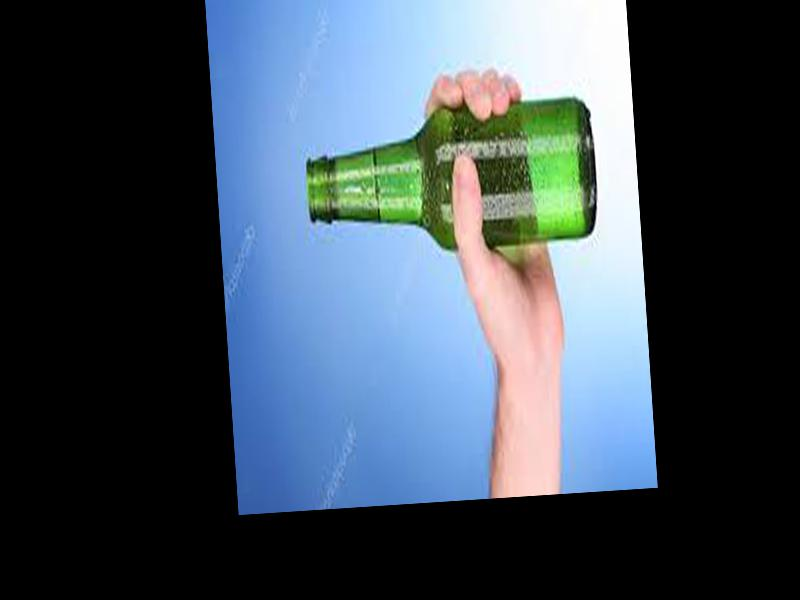Beer: (301, 99, 600, 256)
